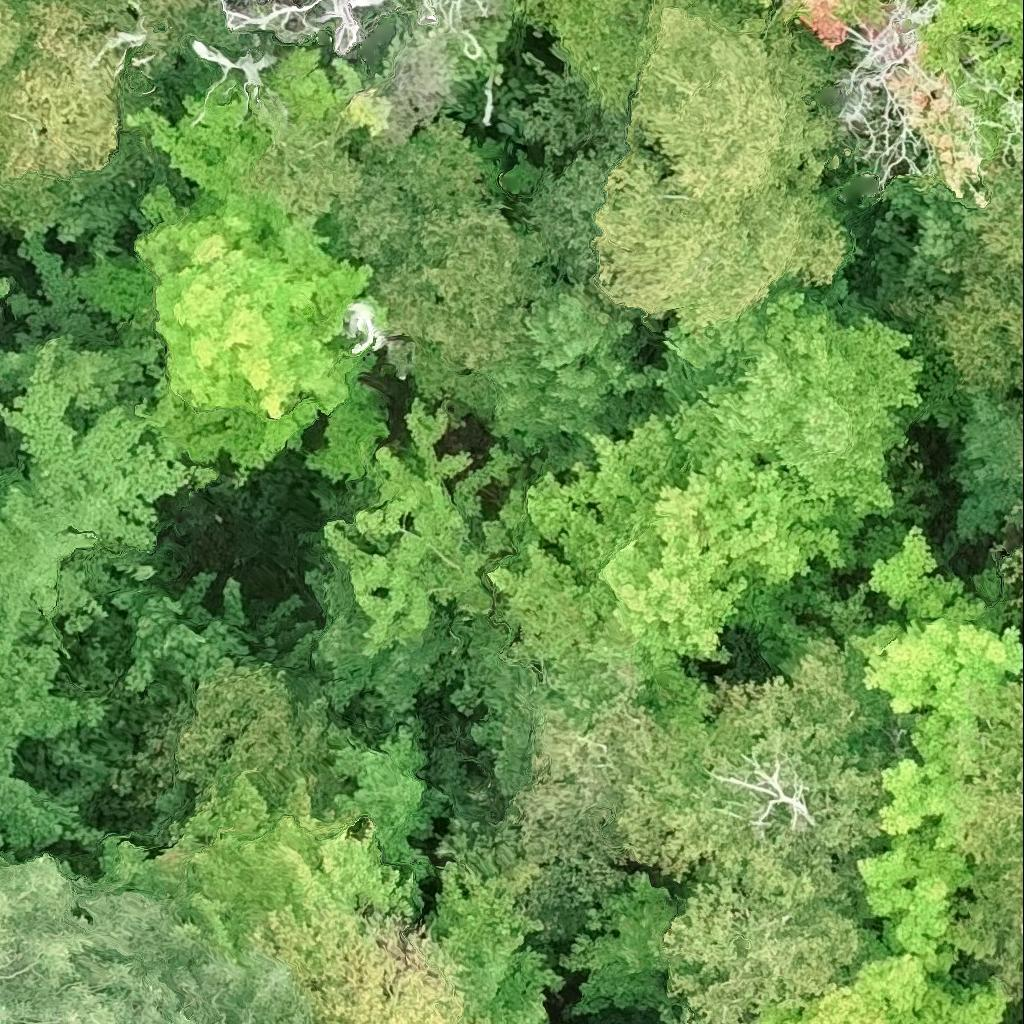crown: (289, 109, 644, 438), (519, 635, 903, 914), (137, 101, 387, 476), (496, 410, 844, 668), (647, 275, 923, 559), (859, 532, 1023, 992), (0, 335, 218, 657), (306, 397, 518, 728), (521, 0, 846, 194), (446, 540, 676, 794), (86, 779, 420, 948), (761, 0, 1023, 204), (592, 144, 857, 334), (0, 858, 302, 1023), (0, 0, 205, 181), (251, 887, 472, 1023), (657, 880, 863, 1023), (105, 572, 319, 704), (0, 644, 107, 852), (432, 860, 568, 1023), (955, 687, 1023, 945), (761, 953, 1004, 1023), (571, 874, 688, 1012), (222, 0, 477, 60), (935, 267, 1023, 399), (626, 654, 717, 763), (954, 162, 1023, 296), (343, 296, 391, 360), (997, 544, 1023, 603), (999, 503, 1023, 525), (737, 0, 774, 10), (0, 280, 12, 300), (475, 0, 485, 23)
